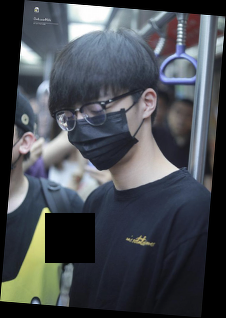with_mask: (59, 87, 143, 172)
